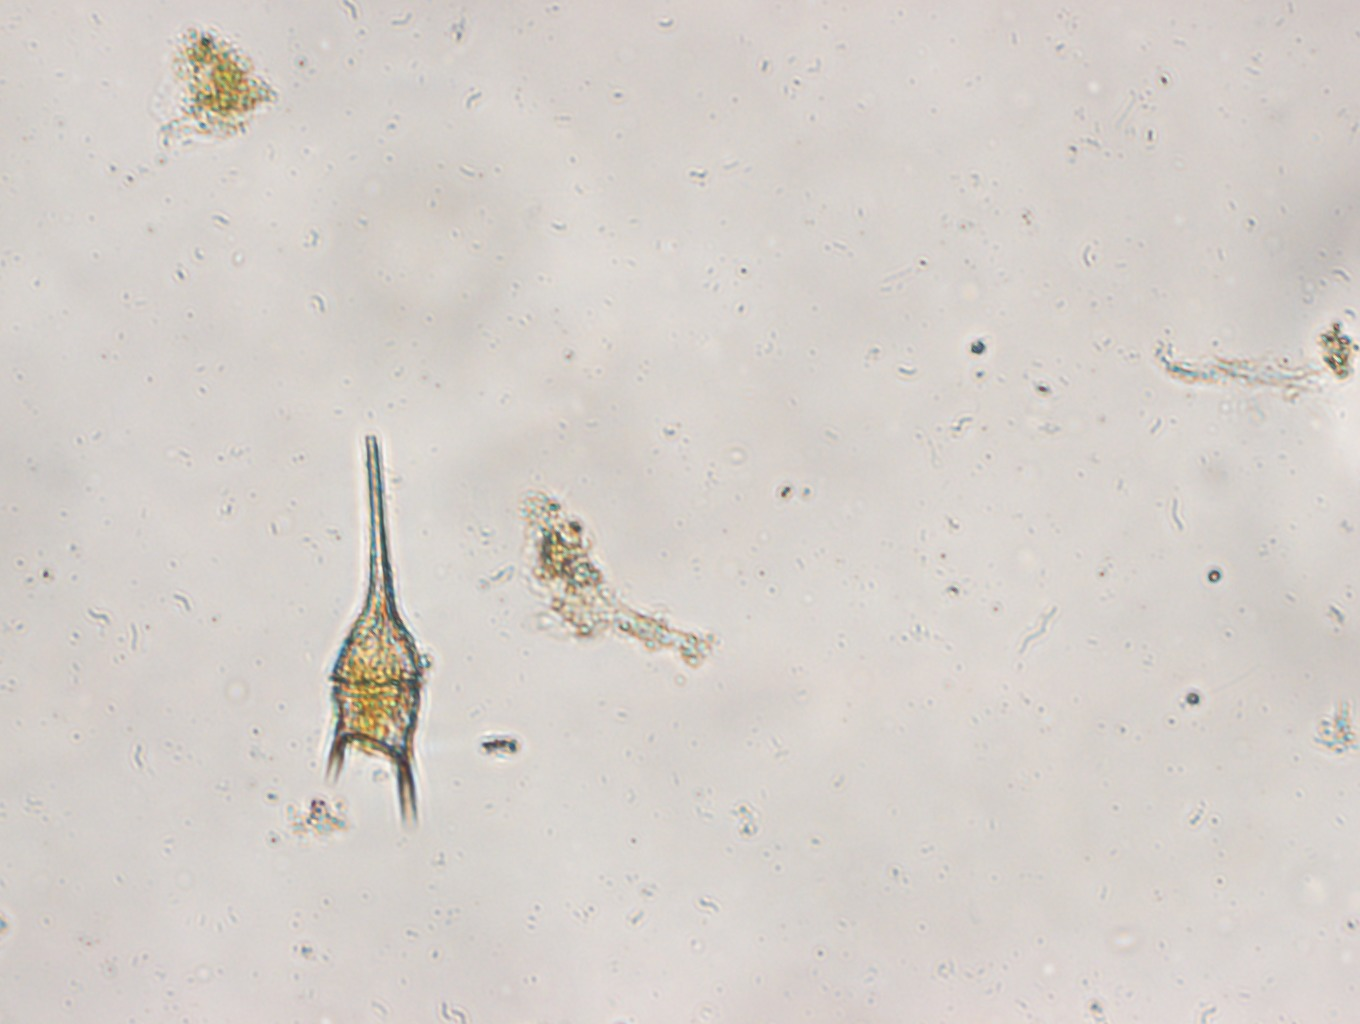ceratium furca: (320, 428, 434, 840)
